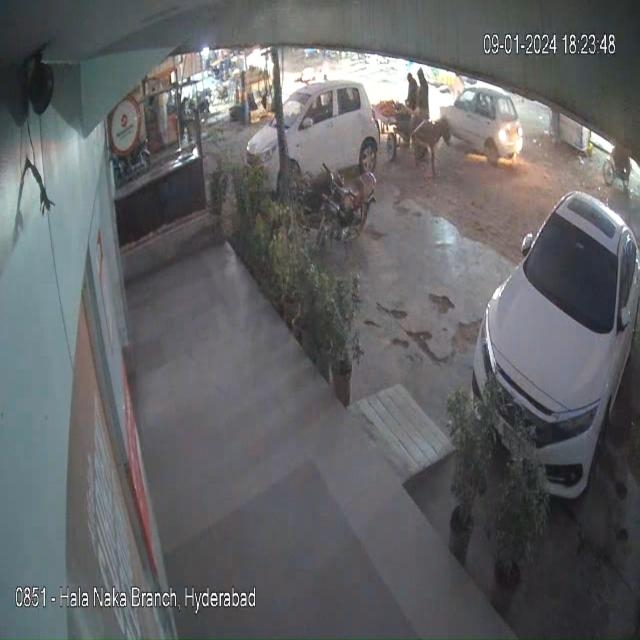Car: (468, 148, 640, 511), (226, 67, 382, 181), (440, 84, 532, 166)
Motorcycle: (317, 153, 378, 256)
